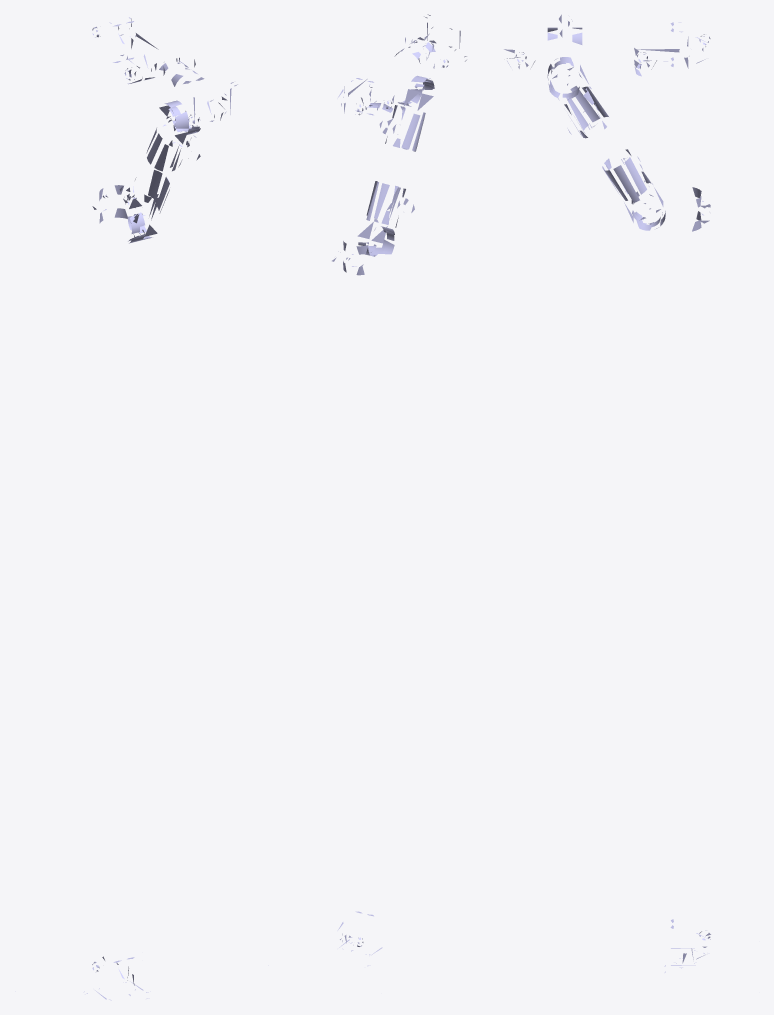
The picture shows the model from 3 angles, left to right: view 1: azimuth 30°, elevation 25°; view 2: azimuth 150°, elevation 25°; view 3: azimuth 270°, elevation 25°; orthographic projection. The views are drawn at different scales.
Visible parts, largest first — view 1: F19732000122019015600_001_zb_gestell_fa; view 2: F19732000122019015600_001_zb_gestell_fa; view 3: F19732000122019015600_001_zb_gestell_fa.
Part boxes in pixels (box(x1,y1,x2,y2)): F19732000122019015600_001_zb_gestell_fa: box(15, 17, 237, 1000); F19732000122019015600_001_zb_gestell_fa: box(268, 14, 466, 966); F19732000122019015600_001_zb_gestell_fa: box(504, 14, 710, 972).
Bounding box in the file's own units: 166 × 306 × 1217.
